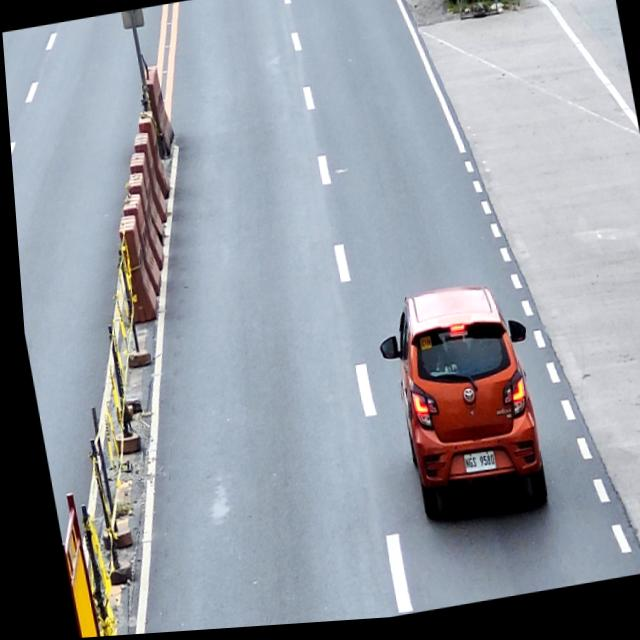Car: (364, 280, 550, 533)
License-Plate: (455, 456, 488, 480)
